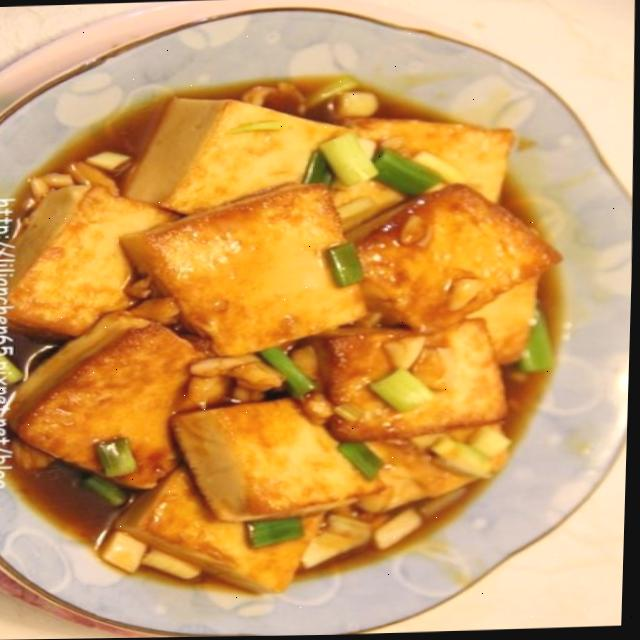豆腐料理: (0, 28, 606, 617)
